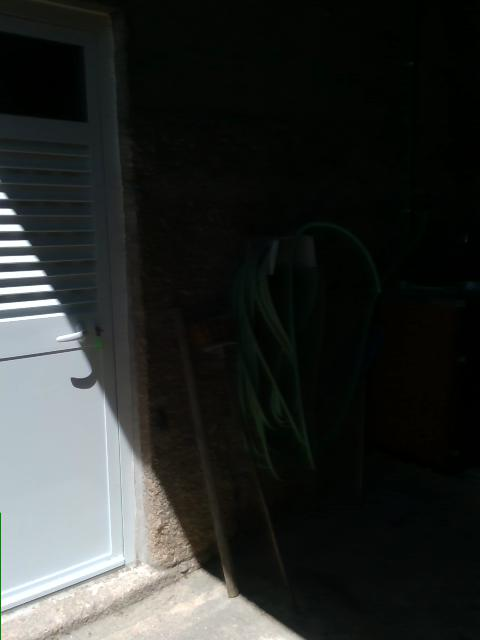door: (0, 1, 154, 618)
